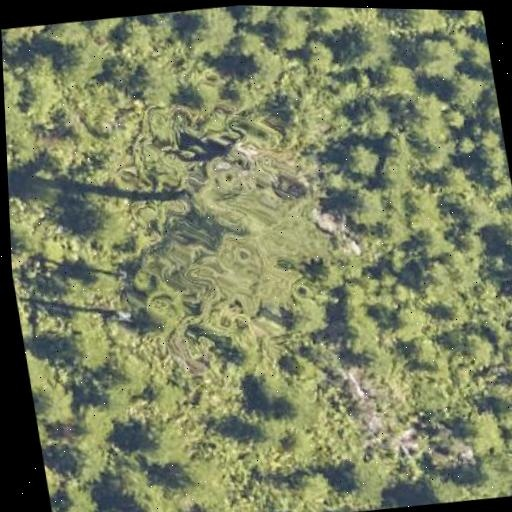tree-top: (56, 305, 126, 376), (327, 289, 392, 362), (393, 177, 461, 243), (407, 29, 468, 88), (324, 17, 384, 74), (460, 120, 511, 184), (457, 402, 512, 460), (183, 5, 245, 56), (274, 466, 340, 512), (372, 53, 427, 106), (340, 179, 392, 231), (352, 91, 405, 142), (264, 6, 316, 54), (134, 60, 186, 108), (122, 474, 187, 512), (133, 423, 185, 469), (73, 400, 121, 448), (274, 382, 320, 430), (445, 64, 492, 110), (389, 296, 436, 342), (341, 137, 387, 182), (52, 473, 103, 512), (237, 47, 283, 90), (395, 9, 458, 40), (415, 468, 466, 506), (35, 382, 79, 426), (465, 459, 505, 500), (46, 20, 91, 52), (1, 23, 57, 47), (478, 72, 500, 123), (43, 454, 66, 498), (235, 5, 280, 27), (94, 211, 117, 249), (158, 6, 215, 20), (495, 206, 512, 240), (94, 502, 138, 512)
